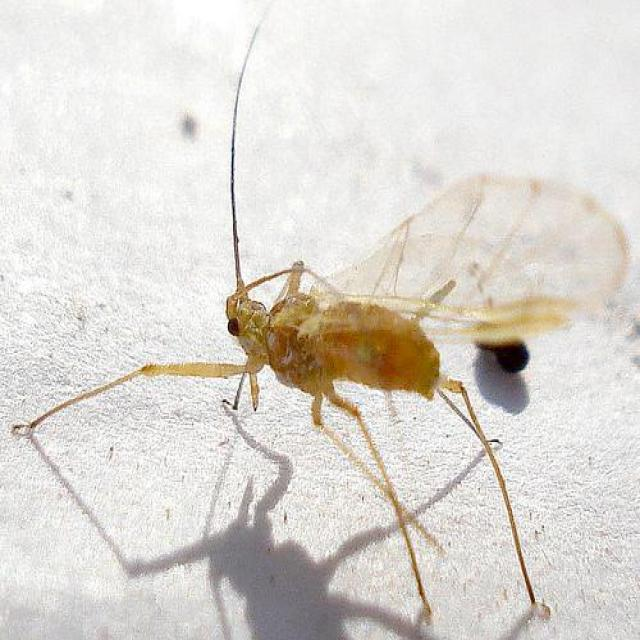Aphids: (59, 72, 617, 621)
